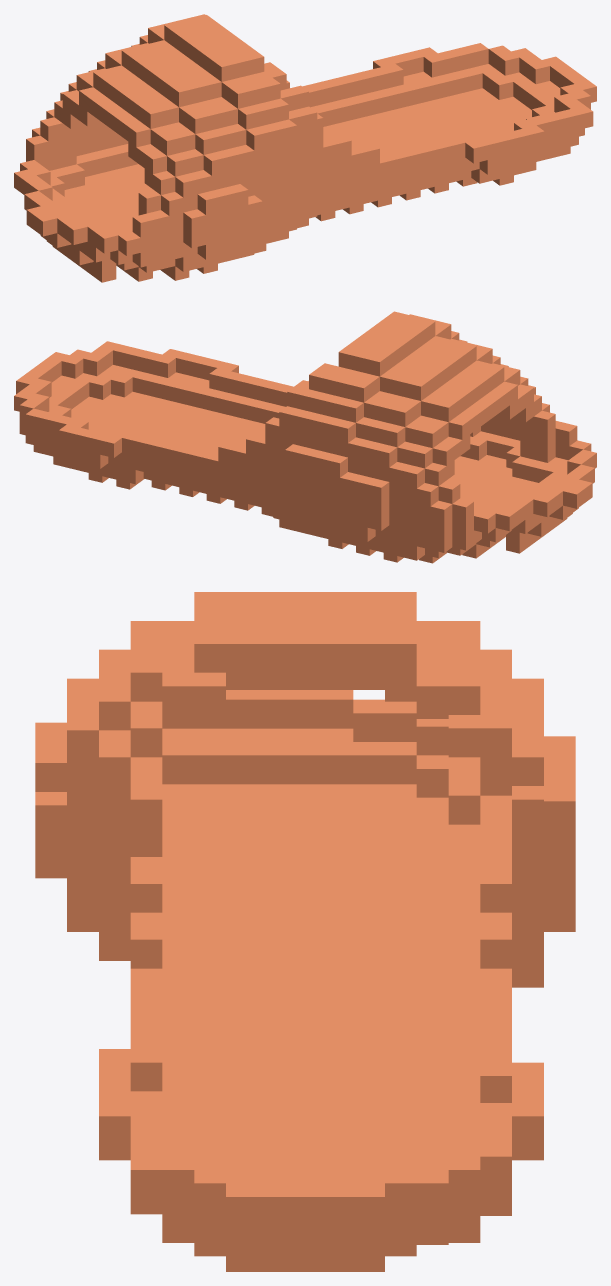
The model's file is Pure.fbx.
The picture shows the model from 3 angles, top to bottom: view 1: azimuth 30°, elevation 25°; view 2: azimuth 150°, elevation 25°; view 3: azimuth 270°, elevation 25°; orthographic projection. The views are drawn at different scales.
Visible parts, largest first — view 1: Untitled; view 2: Untitled; view 3: Untitled.
Boxes of the visible parts, x1,y1,x2,y2 form: Untitled: [14, 14, 596, 282]; Untitled: [14, 311, 596, 563]; Untitled: [35, 592, 575, 1271].
Bounding box in the file's own units: 390 × 120 × 170.
